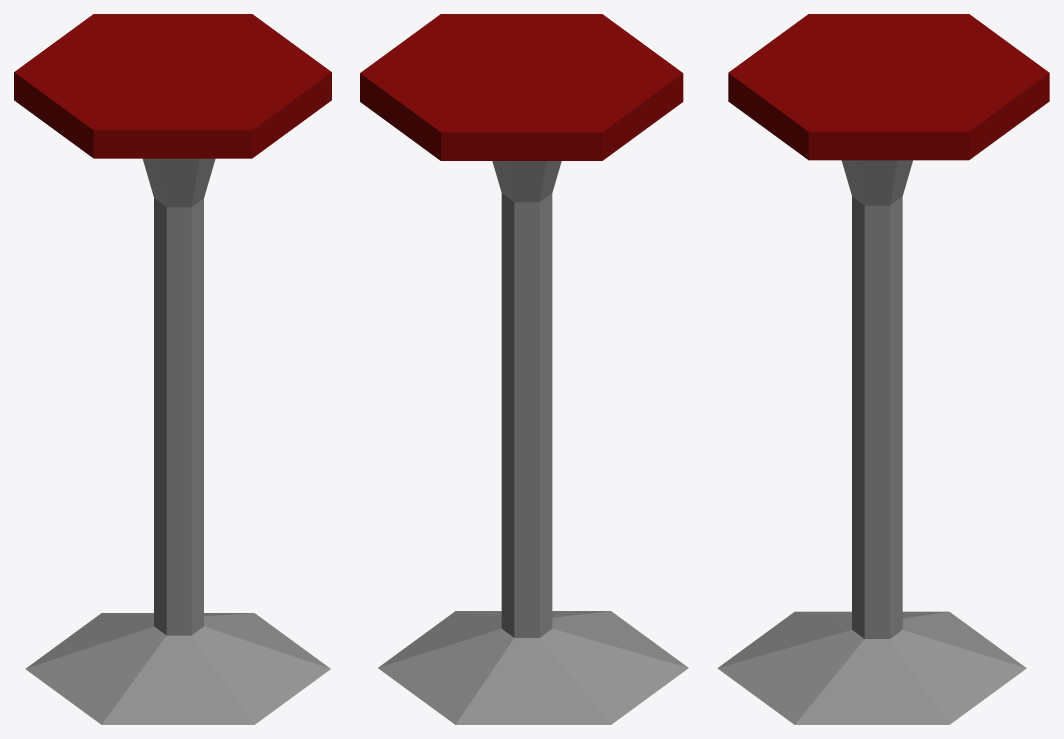
File: stool.glb
3 views of the same model, side by side, from view 1: azimuth 30°, elevation 25°; view 2: azimuth 150°, elevation 25°; view 3: azimuth 270°, elevation 25° (orthographic).
Visible parts, largest first — view 1: stool; view 2: stool; view 3: stool.
Boxes of the visible parts, x1,y1,x2,y2 form: stool: [14, 14, 331, 724]; stool: [360, 14, 688, 724]; stool: [717, 14, 1049, 724].
Size of the model in its own units: 0.3464 by 0.8196 by 0.4135.
